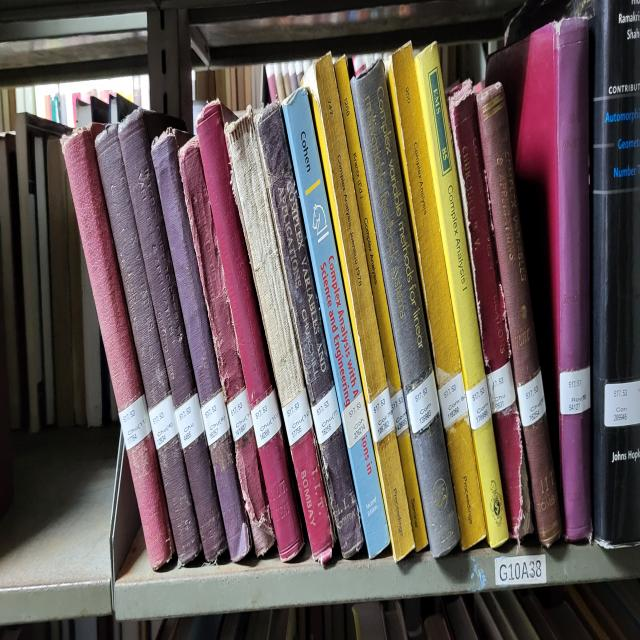Book: (304, 54, 414, 560), (488, 16, 591, 541), (351, 62, 460, 557), (282, 87, 390, 555), (225, 108, 334, 563), (255, 103, 364, 557), (389, 43, 486, 549), (64, 130, 174, 568), (119, 111, 226, 560), (198, 103, 302, 560), (415, 43, 509, 547), (95, 124, 201, 563), (335, 57, 428, 552), (151, 130, 251, 563), (476, 57, 561, 547), (179, 138, 275, 557), (449, 81, 532, 541), (590, 0, 640, 547), (120, 116, 140, 173)
Label: (406, 371, 440, 433), (119, 395, 151, 452), (251, 390, 281, 449), (282, 387, 312, 446), (175, 392, 205, 449), (311, 387, 341, 444), (604, 381, 640, 427), (439, 373, 468, 430), (518, 371, 546, 427), (149, 395, 178, 449), (201, 392, 230, 446), (486, 360, 515, 414), (342, 392, 369, 449), (368, 387, 395, 444), (559, 365, 590, 414), (466, 379, 491, 430), (228, 390, 252, 441), (391, 390, 409, 436)
